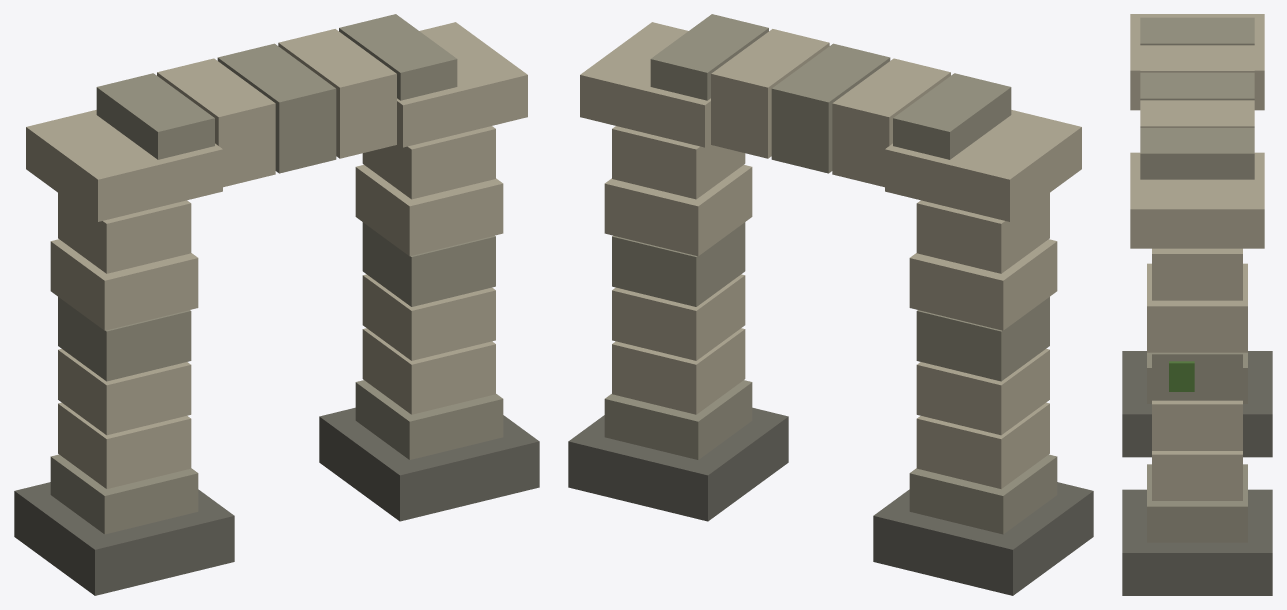
File: underwater_ruins__arch.glb
3 views of the same model, side by side, from view 1: azimuth 30°, elevation 25°; view 2: azimuth 150°, elevation 25°; view 3: azimuth 270°, elevation 25° (orthographic). The views are drawn at different scales.
Visible parts, largest first — view 1: arch__stone2.001, arch__stone.001, arch__stone_dark.001; view 2: arch__stone2.001, arch__stone.001, arch__stone_dark.001; view 3: arch__stone2.001, arch__stone.001, arch__stone_dark.001, arch__leaf.001.
Boxes of the visible parts, x1,y1,x2,y2 form: arch__stone2.001: (26, 22, 527, 488); arch__stone.001: (50, 14, 503, 534); arch__stone_dark.001: (14, 407, 539, 595); arch__stone2.001: (580, 22, 1081, 488); arch__stone.001: (604, 14, 1057, 534); arch__stone_dark.001: (568, 407, 1093, 595); arch__stone2.001: (1130, 14, 1264, 500); arch__stone.001: (1140, 17, 1254, 542); arch__stone_dark.001: (1122, 351, 1272, 595); arch__leaf.001: (1169, 361, 1194, 391).
Size of the model in its own units: 2.42 by 2.28 by 0.76.
